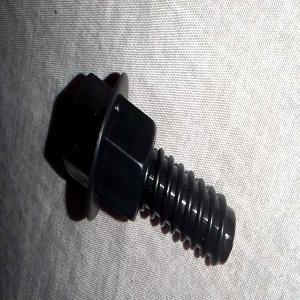parafuso: (60, 70, 234, 270)
